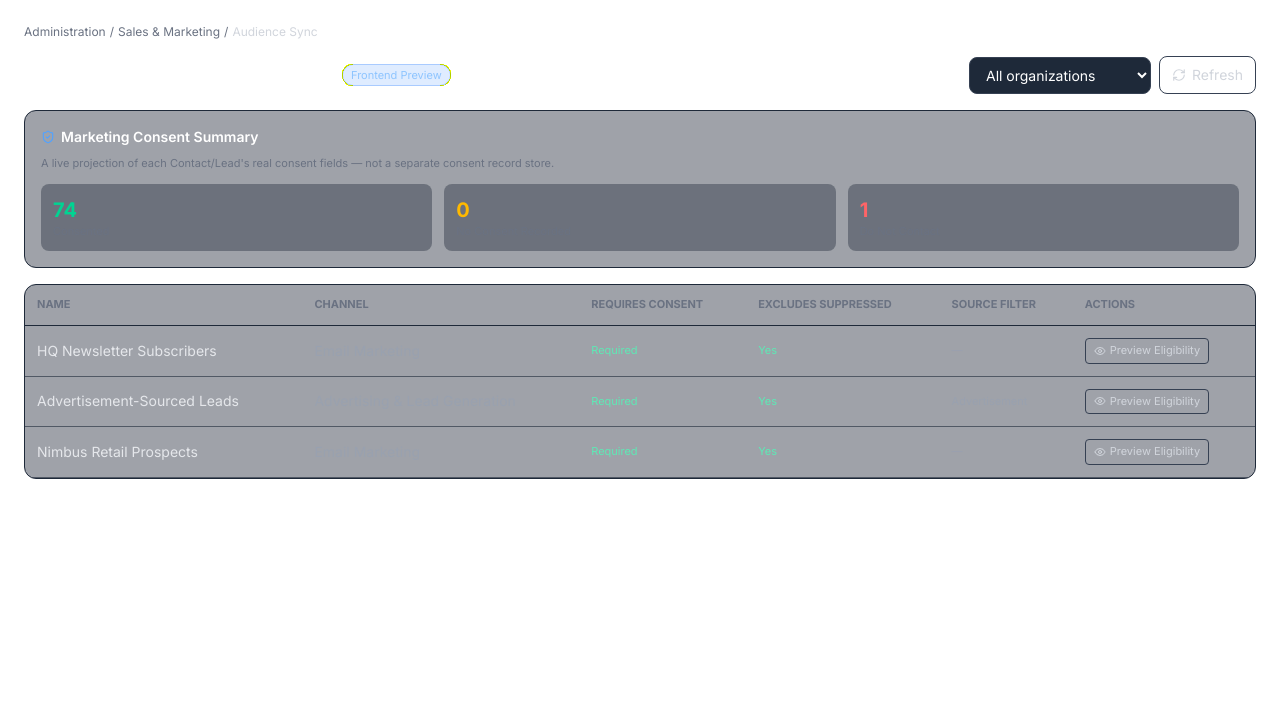
Test: SalesAudienceSync › previews eligibility live, excluding suppressed/non-consented records rather than showing a stored count
This screenshot has width=1280, height=720.
Expected: the text "HQ Newsletter Subscribers" is shown, [25, 325, 302, 376]
Click the button "Preview Eligibility" in the row of "HQ Newsletter Subscribers" at (1147, 351), box [1085, 338, 1209, 364]
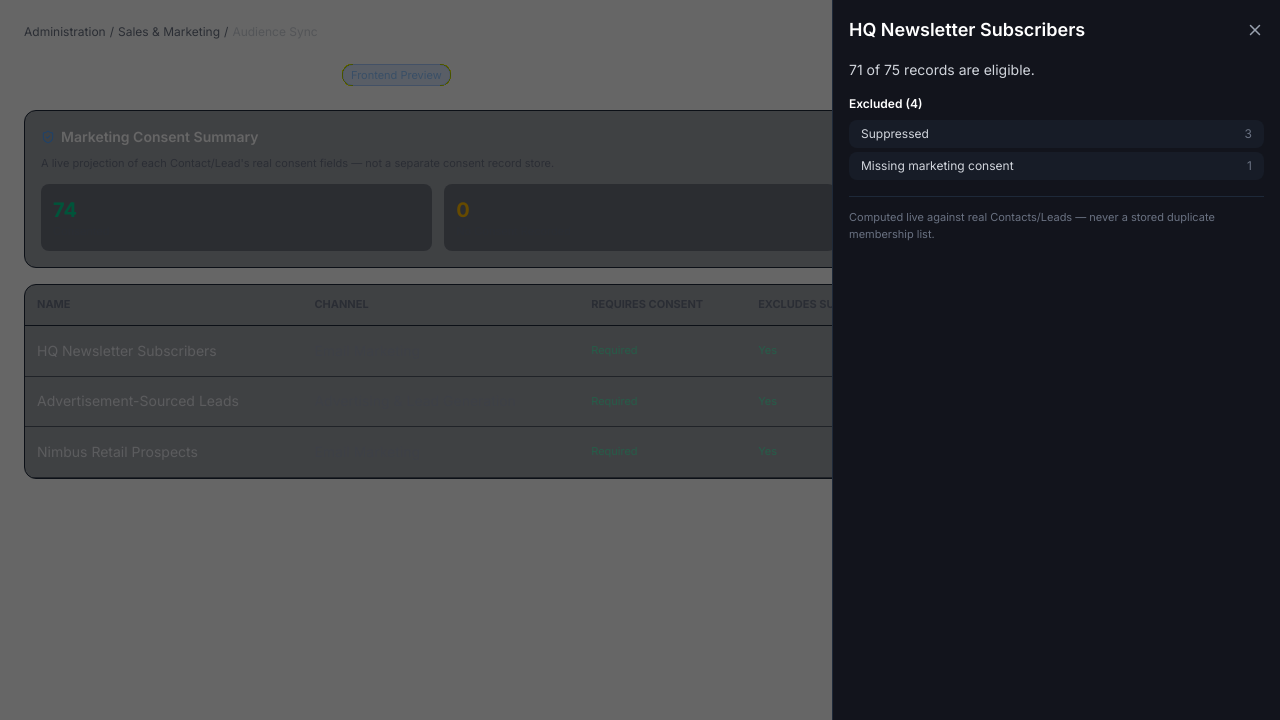
Now the text "71 of 75 records are eligible." is shown, box [849, 61, 1035, 78]
